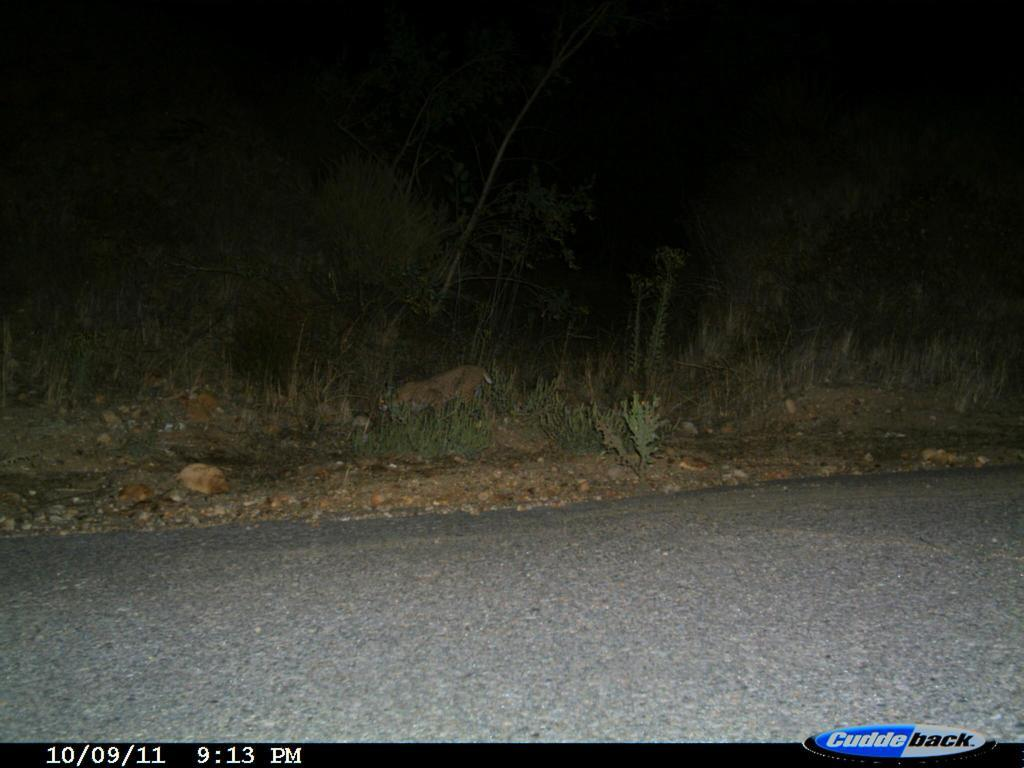bobcat: (369, 356, 509, 438)
